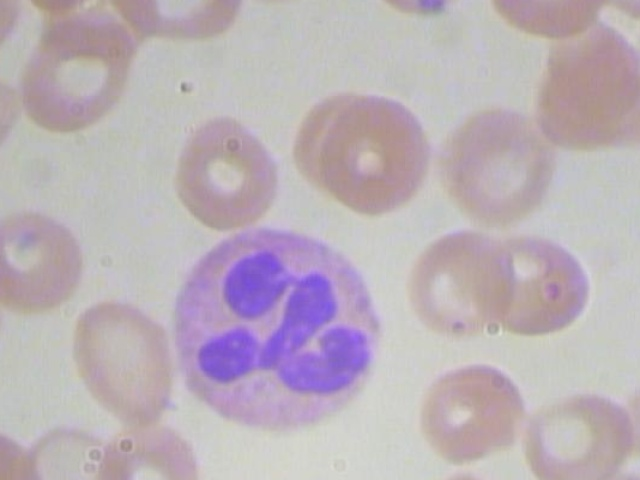RBC: (13, 13, 143, 141), (69, 295, 185, 433), (480, 219, 605, 347), (399, 213, 523, 341), (436, 100, 551, 236), (317, 87, 434, 215), (170, 109, 283, 233), (517, 372, 640, 480), (412, 357, 528, 471), (0, 189, 95, 314), (489, 0, 612, 41), (360, 0, 482, 22), (579, 0, 640, 24)
WBC: (161, 223, 388, 445)
